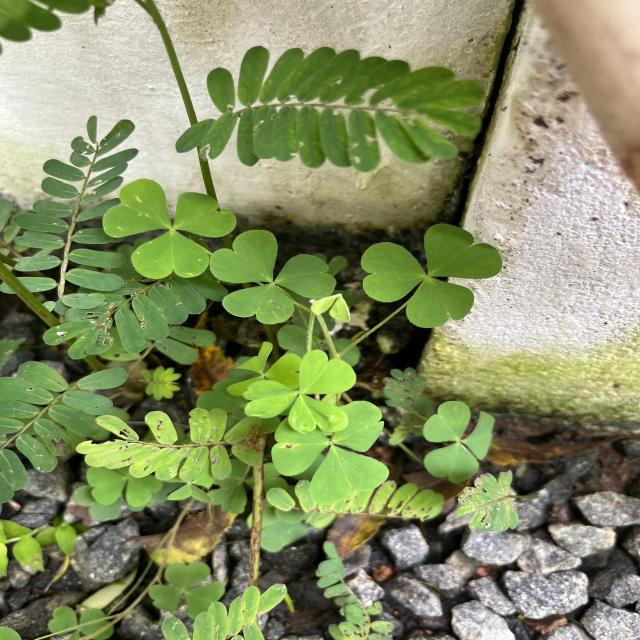Oxalis corniculata: (359, 222, 503, 329), (101, 177, 238, 280), (271, 400, 390, 506), (209, 228, 337, 325), (242, 348, 358, 433), (422, 400, 496, 483)
